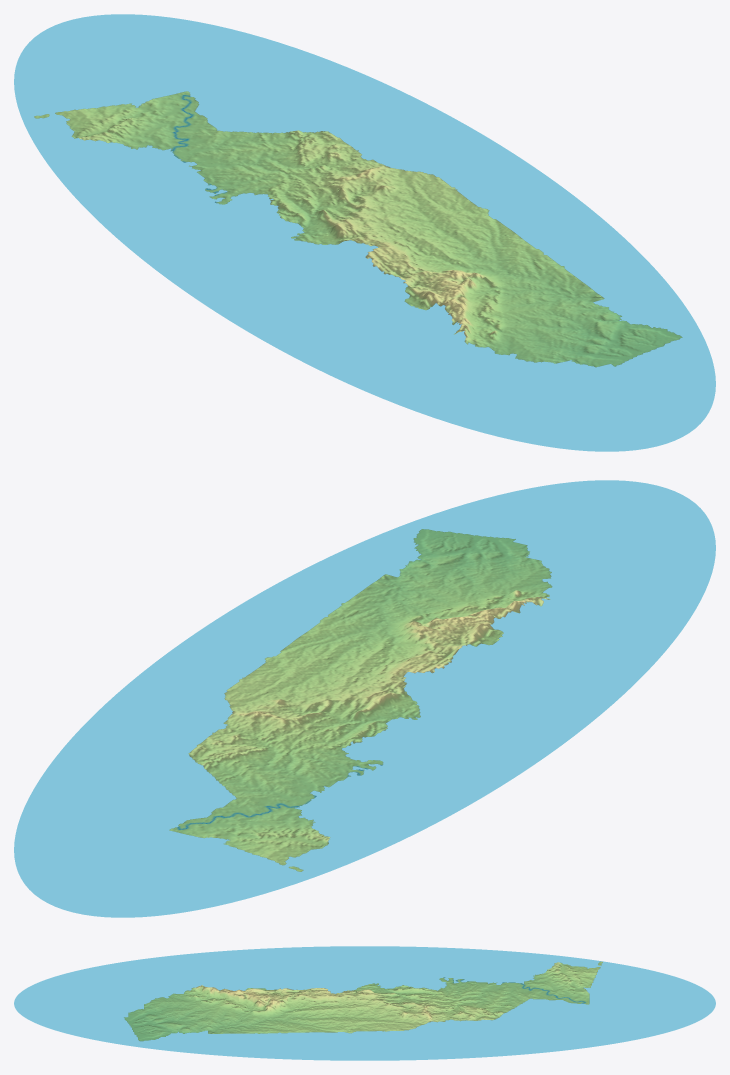
File: TGO-terrain.glb
3 renders of one model, top to bottom at view 1: azimuth 30°, elevation 25°; view 2: azimuth 150°, elevation 25°; view 3: azimuth 270°, elevation 25°, orthographic. The views are drawn at different scales.
Visible parts, largest first — view 1: Relevo com hidrografia; view 2: Relevo com hidrografia; view 3: Relevo com hidrografia.
Boxes of the visible parts, x1,y1,x2,y2 form: Relevo com hidrografia: (14, 14, 715, 451); Relevo com hidrografia: (14, 480, 715, 917); Relevo com hidrografia: (14, 946, 715, 1060).
Bounding box in the file's own units: 0.9084 × 0.0303 × 2.35.
2 materials, 1 textured.
